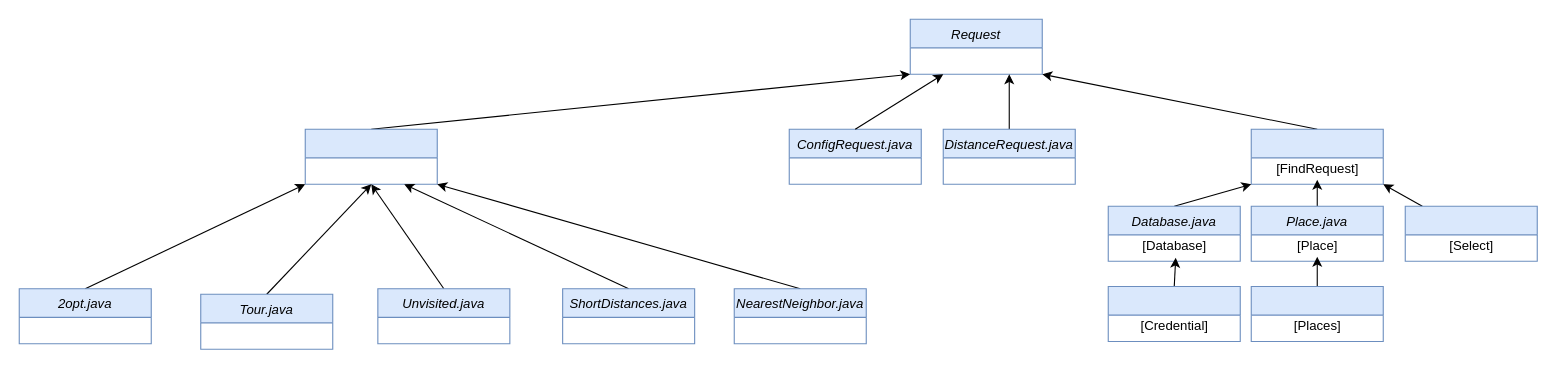
This 1557x369 diagram has some shape labels left out. The shapes that lost their labels are listed below. From the top down, each one's box as (x1, y1, x2, y2) in pixels, then its label:
(304, 128, 437, 184): TourRequest.java
(1250, 128, 1383, 184): FindRequest.java
(1404, 205, 1537, 261): Select.java
(1107, 285, 1240, 342): Credential.java
(1250, 285, 1383, 342): Places.java
